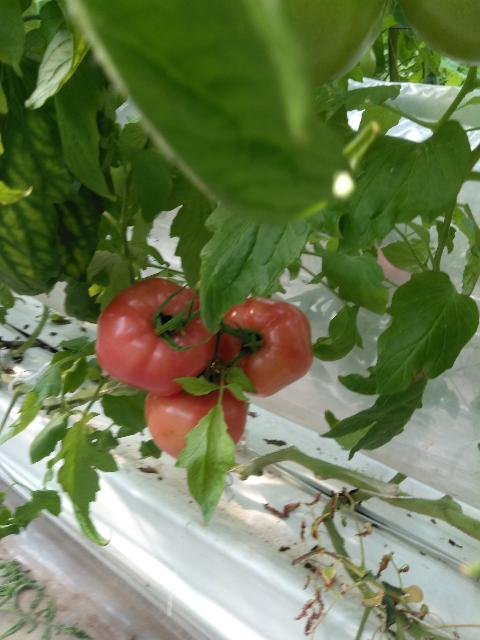b_fully_ripened: (96, 278, 221, 396), (214, 297, 313, 398), (143, 368, 246, 465)
b_green: (275, 2, 393, 87), (397, 1, 480, 67)
